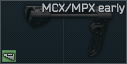MPX collapsing%5telescoping stock: (0, 0, 127, 64)
